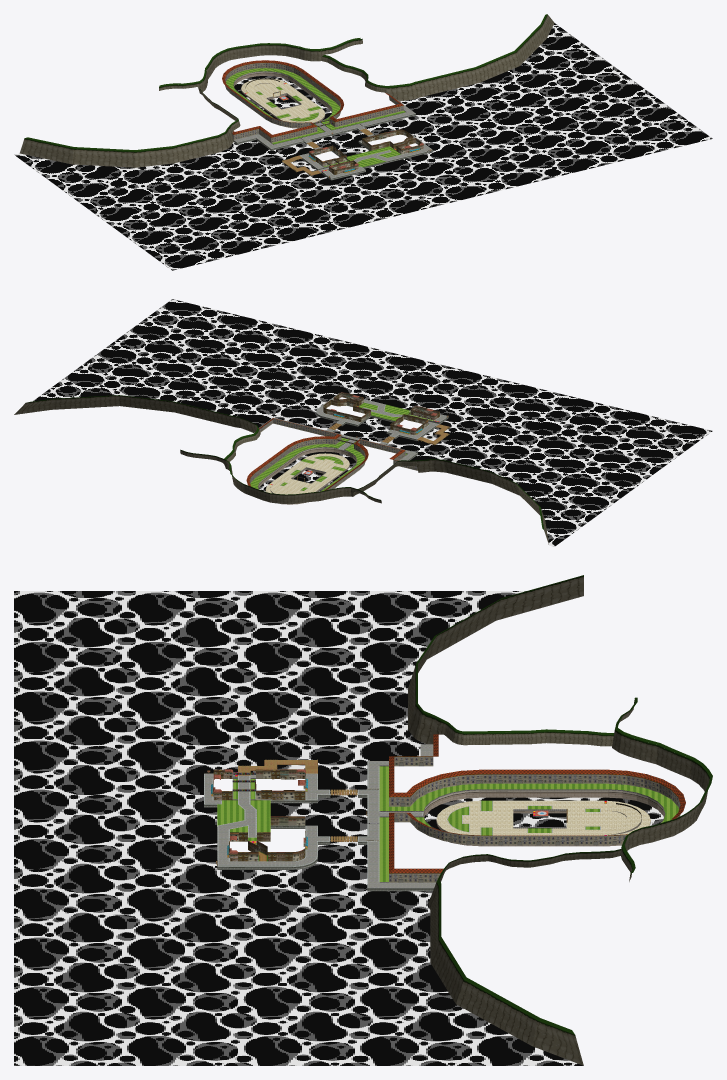
The picture shows the model from 3 angles, top to bottom: view 1: azimuth 30°, elevation 25°; view 2: azimuth 150°, elevation 25°; view 3: azimuth 270°, elevation 25°; orthographic projection. The views are drawn at different scales.
Parts seen in each view (by area): view 1: v1_1_fix_no_lag-SKP--Material1, v1_1_fix_no_lag-SKP--Material17, v1_1_fix_no_lag-SKP--Material5, v1_1_fix_no_lag-SKP--Material20, v1_1_fix_no_lag-SKP--Material19, v1_1_fix_no_lag-SKP--Material16, v1_1_fix_no_lag-SKP--b_tw_comb2, v1_1_fix_no_lag-SKP--Material11, v1_1_fix_no_lag-SKP--Material3, v1_1_fix_no_lag-SKP--Material13, v1_1_fix_no_lag-SKP--Material32, v1_1_fix_no_lag-SKP--Material21 (+1 smaller); view 2: v1_1_fix_no_lag-SKP--Material1, v1_1_fix_no_lag-SKP--Material17, v1_1_fix_no_lag-SKP--Material20, v1_1_fix_no_lag-SKP--Material5, v1_1_fix_no_lag-SKP--Material19, v1_1_fix_no_lag-SKP--b_tw_comb2, v1_1_fix_no_lag-SKP--Material11, v1_1_fix_no_lag-SKP--Material3, v1_1_fix_no_lag-SKP--Material21, v1_1_fix_no_lag-SKP--Material16, v1_1_fix_no_lag-SKP--Material32; view 3: v1_1_fix_no_lag-SKP--Material1, v1_1_fix_no_lag-SKP--Material17, v1_1_fix_no_lag-SKP--Material5, v1_1_fix_no_lag-SKP--Material20, v1_1_fix_no_lag-SKP--Material19, v1_1_fix_no_lag-SKP--Material11, v1_1_fix_no_lag-SKP--b_tw_comb2, v1_1_fix_no_lag-SKP--Material3, v1_1_fix_no_lag-SKP--Material16, v1_1_fix_no_lag-SKP--Material21, v1_1_fix_no_lag-SKP--Material32, v1_1_fix_no_lag-SKP--Material13 (+2 smaller).
Boxes of the visible parts, bbox=[...] form: v1_1_fix_no_lag-SKP--Material1: bbox=[14, 23, 712, 270]; v1_1_fix_no_lag-SKP--Material17: bbox=[19, 14, 554, 167]; v1_1_fix_no_lag-SKP--Material5: bbox=[225, 62, 403, 142]; v1_1_fix_no_lag-SKP--Material20: bbox=[226, 68, 405, 167]; v1_1_fix_no_lag-SKP--Material19: bbox=[241, 78, 325, 122]; v1_1_fix_no_lag-SKP--Material16: bbox=[25, 14, 547, 151]; v1_1_fix_no_lag-SKP--b_tw_comb2: bbox=[308, 129, 423, 174]; v1_1_fix_no_lag-SKP--Material11: bbox=[234, 100, 431, 178]; v1_1_fix_no_lag-SKP--Material3: bbox=[222, 60, 403, 137]; v1_1_fix_no_lag-SKP--Material13: bbox=[233, 113, 433, 180]; v1_1_fix_no_lag-SKP--Material32: bbox=[255, 86, 432, 178]; v1_1_fix_no_lag-SKP--Material21: bbox=[233, 71, 332, 128]; v1_1_fix_no_lag-SKP--Material1: bbox=[32, 299, 712, 546]; v1_1_fix_no_lag-SKP--Material17: bbox=[14, 395, 548, 544]; v1_1_fix_no_lag-SKP--Material20: bbox=[250, 402, 433, 491]; v1_1_fix_no_lag-SKP--Material5: bbox=[249, 418, 417, 503]; v1_1_fix_no_lag-SKP--Material19: bbox=[265, 453, 349, 494]; v1_1_fix_no_lag-SKP--b_tw_comb2: bbox=[323, 392, 439, 435]; v1_1_fix_no_lag-SKP--Material11: bbox=[259, 395, 447, 460]; v1_1_fix_no_lag-SKP--Material3: bbox=[246, 418, 405, 490]; v1_1_fix_no_lag-SKP--Material21: bbox=[258, 447, 356, 504]; v1_1_fix_no_lag-SKP--Material16: bbox=[27, 395, 543, 529]; v1_1_fix_no_lag-SKP--Material32: bbox=[273, 393, 446, 490]; v1_1_fix_no_lag-SKP--Material1: bbox=[14, 591, 663, 1065]; v1_1_fix_no_lag-SKP--Material17: bbox=[408, 575, 709, 1065]; v1_1_fix_no_lag-SKP--Material5: bbox=[389, 756, 680, 882]; v1_1_fix_no_lag-SKP--Material20: bbox=[217, 766, 678, 881]; v1_1_fix_no_lag-SKP--Material19: bbox=[436, 800, 650, 835]; v1_1_fix_no_lag-SKP--Material11: bbox=[205, 744, 435, 887]; v1_1_fix_no_lag-SKP--b_tw_comb2: bbox=[212, 769, 306, 861]; v1_1_fix_no_lag-SKP--Material3: bbox=[389, 734, 685, 872]; v1_1_fix_no_lag-SKP--Material16: bbox=[416, 575, 712, 1034]; v1_1_fix_no_lag-SKP--Material21: bbox=[423, 790, 664, 846]; v1_1_fix_no_lag-SKP--Material32: bbox=[204, 761, 600, 887]; v1_1_fix_no_lag-SKP--Material13: bbox=[204, 777, 433, 891].
Bounding box in the file's own units: 312569 × 11900 × 194480.
33 materials, 33 textured.
